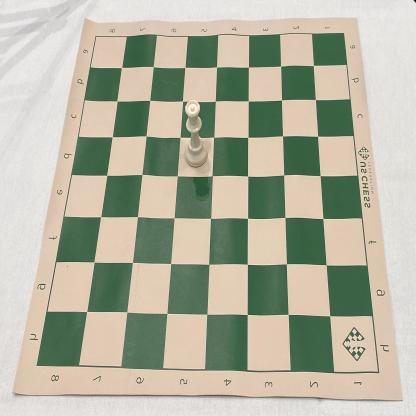white-queen: (184, 99, 208, 169)
